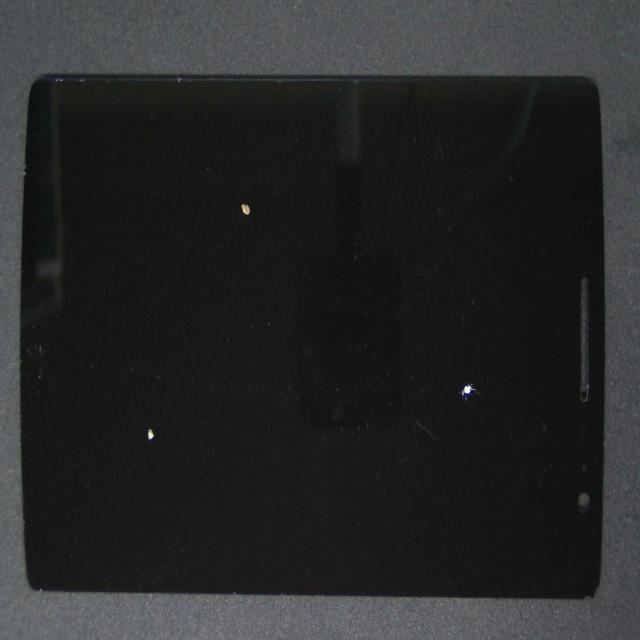Scratches: (224, 177, 268, 237), (131, 422, 171, 451), (455, 375, 489, 406)
